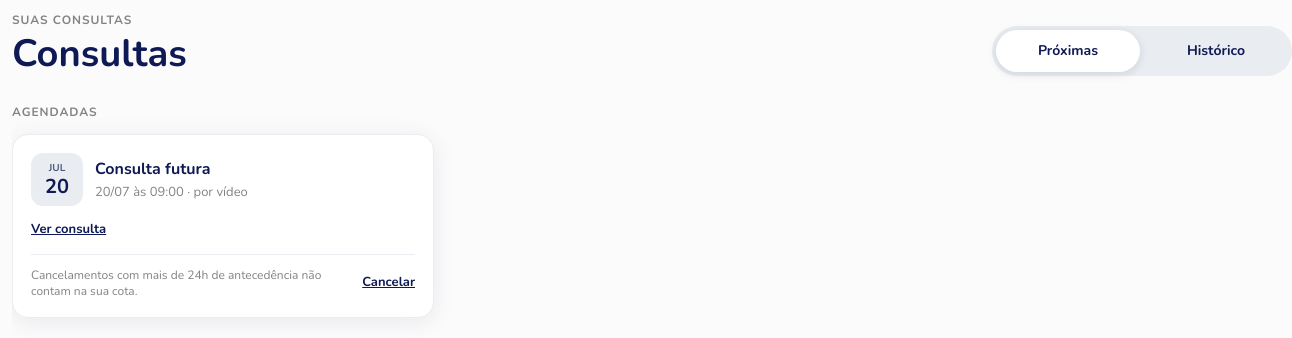
it: ConsultationsPage › alterna entre as abas Próximas e Histórico
Expected: the text "Consulta futura" is shown, [95,158,210,180]
Expected: the text "Consulta antiga" is not shown
Click the tab "Histórico".
click(1216, 51)  # box [1144,30,1288,72]
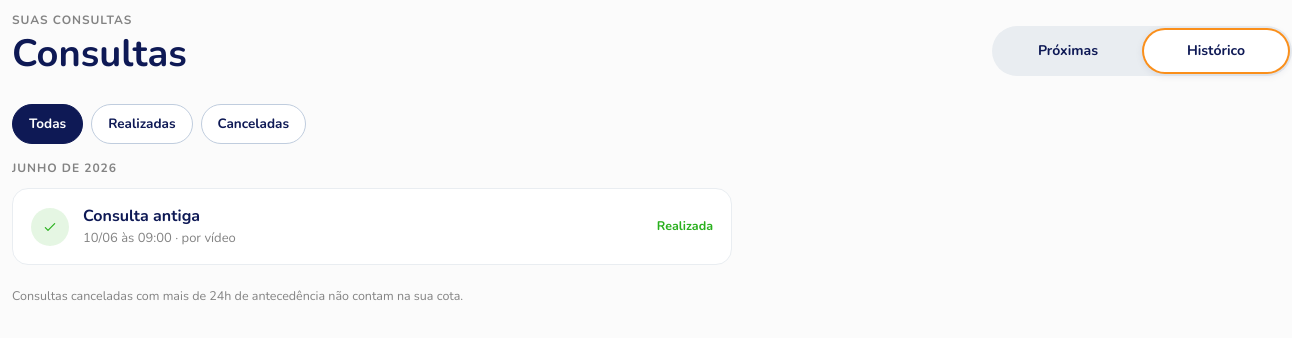
Expected: the text "Consulta antiga" is shown, [83,205,200,227]
Expected: the text "Consulta futura" is gone
